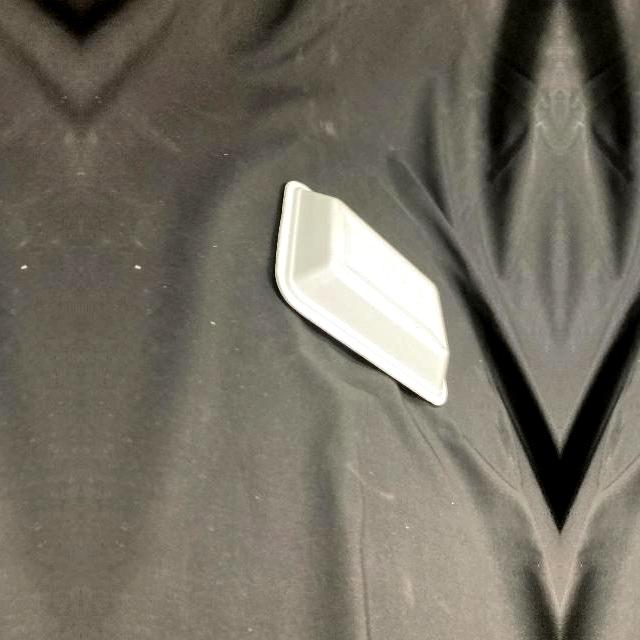Styrofoam: (273, 179, 447, 405), (275, 181, 449, 406)
